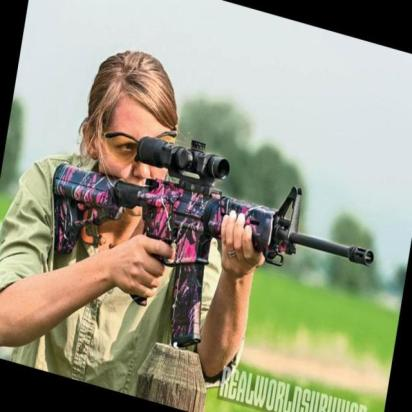Gun: (26, 119, 378, 386)
